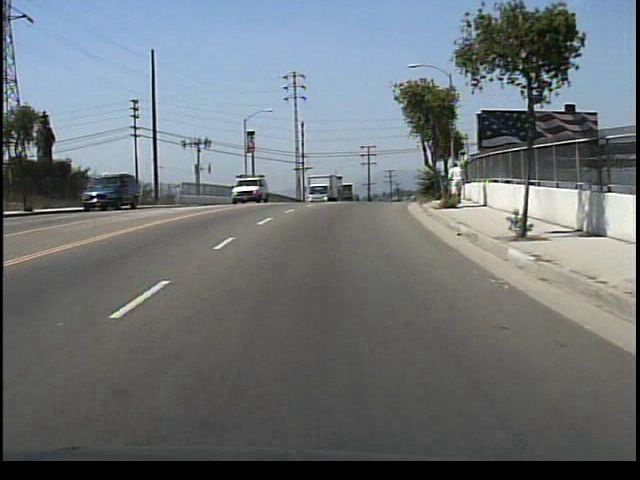person: (447, 160, 468, 207)
